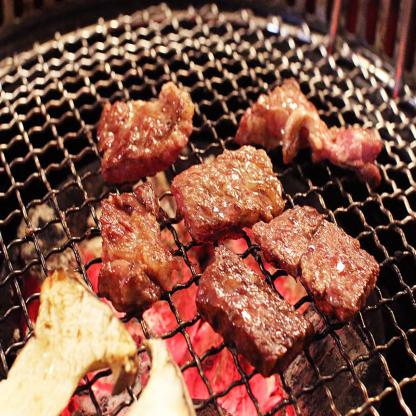Carne: (190, 240, 316, 374), (252, 207, 382, 312), (233, 80, 382, 164), (167, 145, 282, 237), (95, 178, 166, 310), (101, 79, 192, 177)
